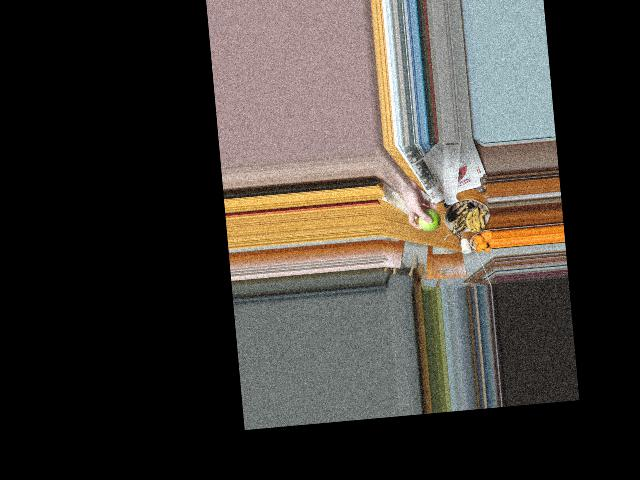apple: (416, 206, 441, 232)
